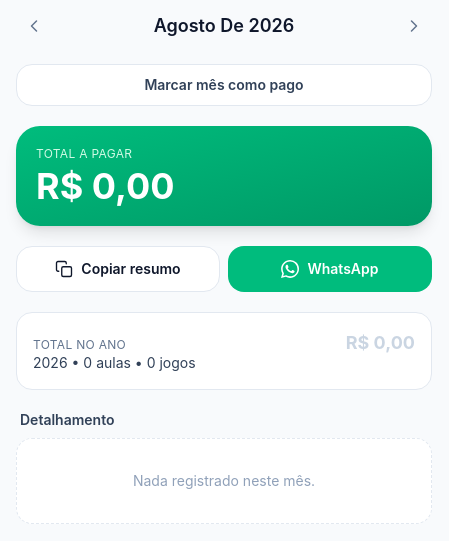
Test case: Consolidated paid status › toggles paid status on click
Click the button with test id "toggle-paid" at (224, 85), box top-left (16, 64), bottom-right (432, 106)
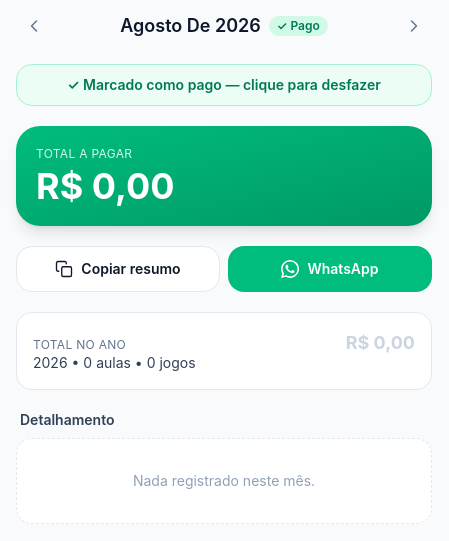
Expected: the button with test id "toggle-paid" shows "desfazer", top-left (16, 64), bottom-right (432, 106)
Expected: the text "✓ Pago" is shown, top-left (269, 16), bottom-right (328, 36)
